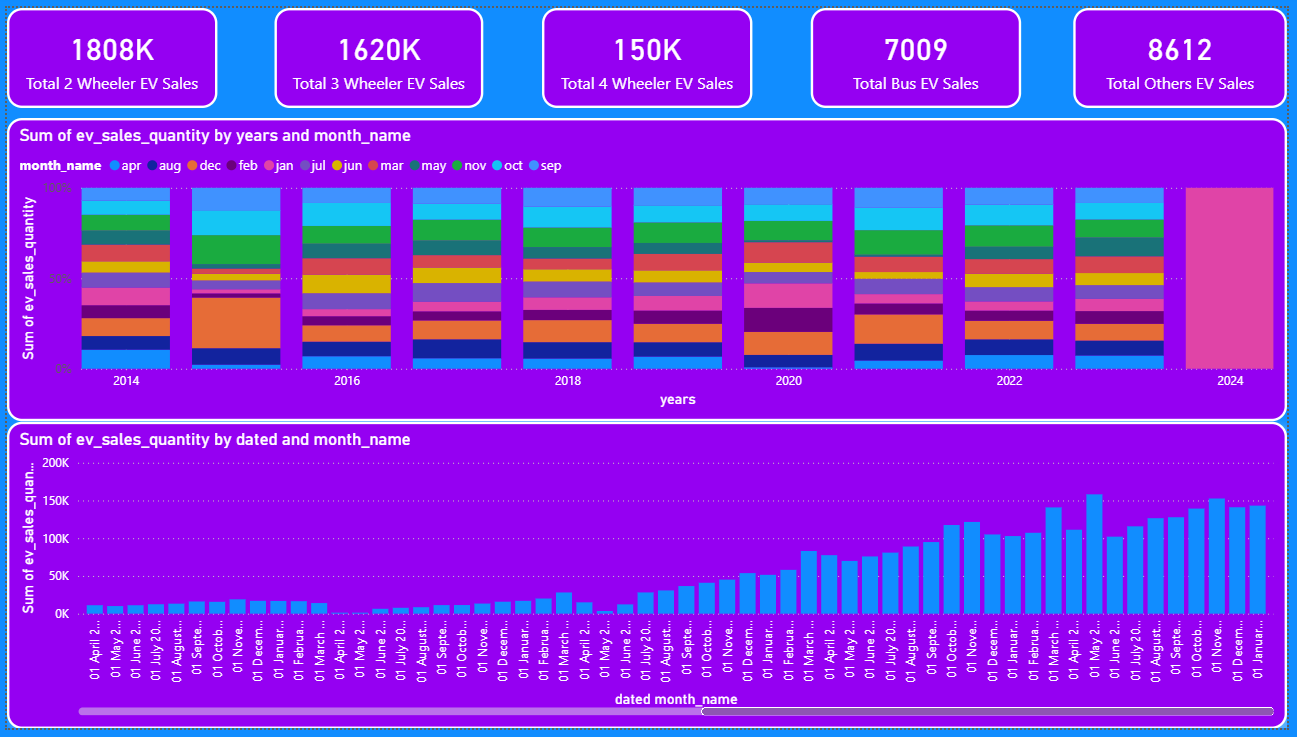

Layout of this report page (visuals, bound fields, positions):
{"tool":"powerbi","page":{"name":"Page 2","canvas":[1280,720],"ordinal":1},"visuals":[{"type":"card","fields":{"Values":["Sum(ev_sales_statewise_india.ev_sales_quantity)"]},"box":[0,0,210.3,100.3],"z":0},{"type":"card","fields":{"Values":["Sum(ev_sales_statewise_india.ev_sales_quantity)"]},"box":[267.8,0,209.1,100.3],"z":1000},{"type":"card","fields":{"Values":["Sum(ev_sales_statewise_india.ev_sales_quantity)"]},"box":[535.6,0,210.3,100.3],"z":2000},{"type":"card","fields":{"Values":["Sum(ev_sales_statewise_india.ev_sales_quantity)"]},"box":[803.4,0,210.3,100.3],"z":3000},{"type":"card","fields":{"Values":["Sum(ev_sales_statewise_india.ev_sales_quantity)"]},"box":[1066.3,0,214,100.3],"z":4000},{"type":"hundredPercentStackedColumnChart","fields":{"Category":["ev_sales_statewise_india.years"],"Y":["Sum(ev_sales_statewise_india.ev_sales_quantity)"],"Series":["ev_sales_statewise_india.month_name"]},"box":[0,110.1,1280.3,303.3],"z":5000},{"type":"clusteredColumnChart","fields":{"Y":["Sum(ev_sales_statewise_india.ev_sales_quantity)"],"Category":["ev_sales_statewise_india.dated","ev_sales_statewise_india.month_name"]},"box":[0,413.3,1280.3,306.9],"z":5001}]}

Visuals, with their boxes in screenshot pixels (x1, y1, x2, y2), scaled from the page's 1280x720 canvas onto the 1297x737 screenshot:
card - Sum(ev_sales_statewise_india.ev_sales_quantity): bbox=(0, 0, 213, 103)
card - Sum(ev_sales_statewise_india.ev_sales_quantity): bbox=(271, 0, 483, 103)
card - Sum(ev_sales_statewise_india.ev_sales_quantity): bbox=(543, 0, 756, 103)
card - Sum(ev_sales_statewise_india.ev_sales_quantity): bbox=(814, 0, 1027, 103)
card - Sum(ev_sales_statewise_india.ev_sales_quantity): bbox=(1080, 0, 1296, 103)
hundredPercentStackedColumnChart - ev_sales_statewise_india.years x Sum(ev_sales_statewise_india.ev_sales_quantity): bbox=(0, 113, 1296, 423)
clusteredColumnChart - Sum(ev_sales_statewise_india.ev_sales_quantity) x ev_sales_statewise_india.dated: bbox=(0, 423, 1296, 736)
